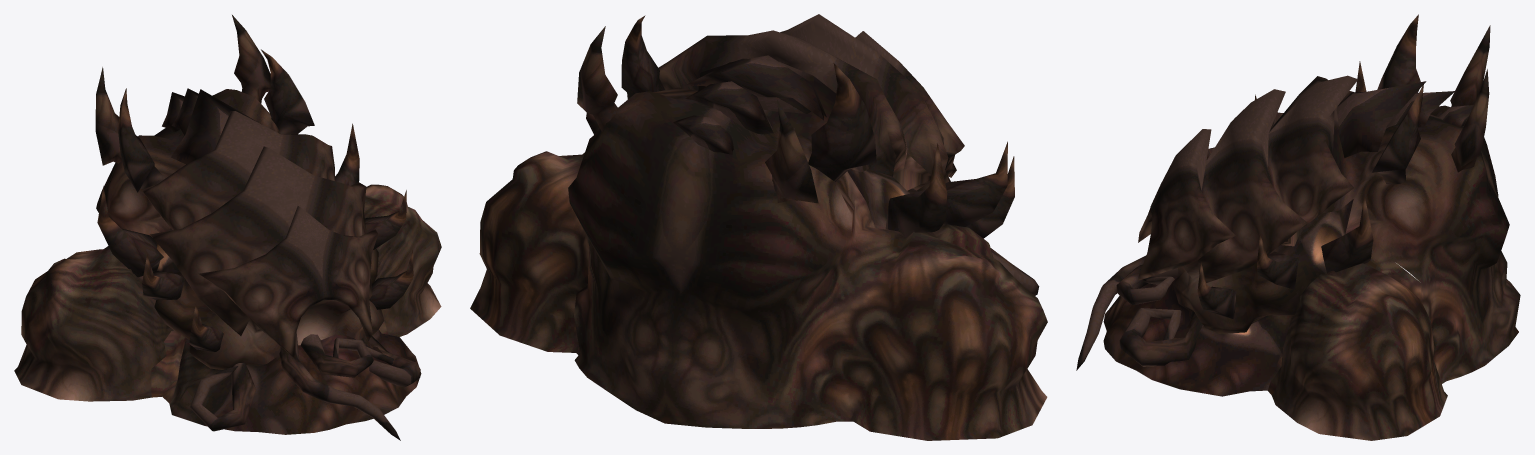
Rendered from MutagenChamber.glb.
3 renders of one model, left to right at view 1: azimuth 30°, elevation 25°; view 2: azimuth 150°, elevation 25°; view 3: azimuth 270°, elevation 25°, orthographic. The views are drawn at different scales.
Parts seen in each view (by area): view 1: Mesh; view 2: Mesh; view 3: Mesh.
Part boxes in pixels (bbox=[...]): Mesh: bbox=[14, 15, 441, 440]; Mesh: bbox=[470, 14, 1047, 440]; Mesh: bbox=[1076, 14, 1520, 440].
Bounding box in the file's own units: 3.44 × 2.3 × 2.96.
1 material, 1 textured.
